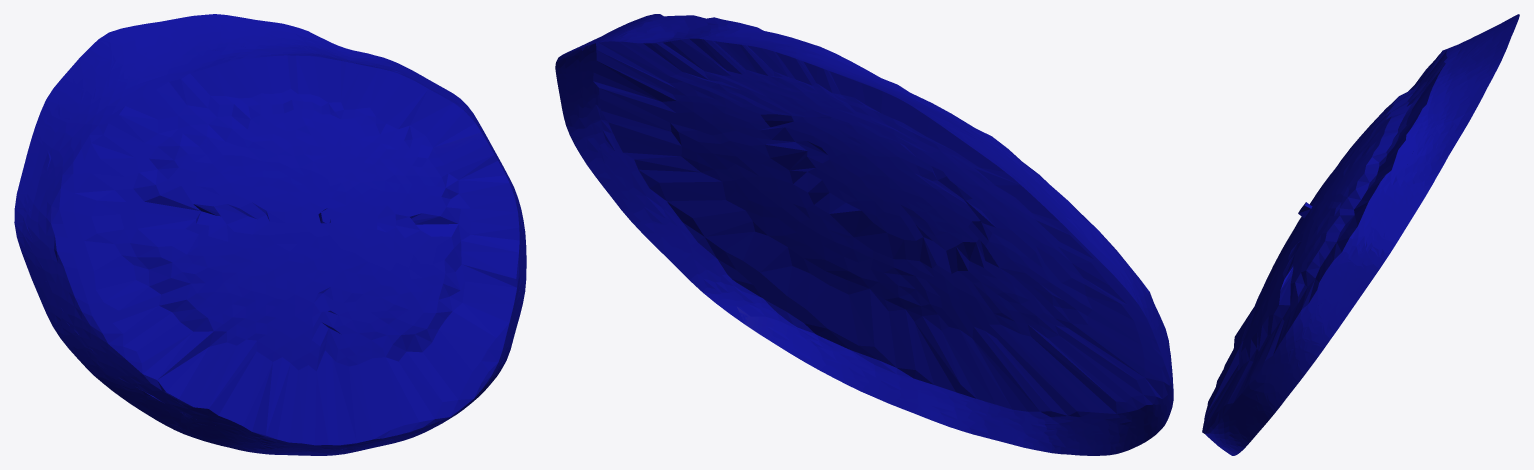
Rendered from laao_deformed_disk.obj.
3 views of the same model, side by side, from view 1: azimuth 30°, elevation 25°; view 2: azimuth 150°, elevation 25°; view 3: azimuth 270°, elevation 25° (orthographic). The views are drawn at different scales.
Parts seen in each view (by area): view 1: laao_deformed_disk; view 2: laao_deformed_disk; view 3: laao_deformed_disk.
Part boxes in pixels (x1,y1,x2,y2): laao_deformed_disk: (14,14,526,455); laao_deformed_disk: (555,14,1173,455); laao_deformed_disk: (1202,14,1519,455).
Size of the model in its own units: 23.21 by 17.42 by 14.05.
